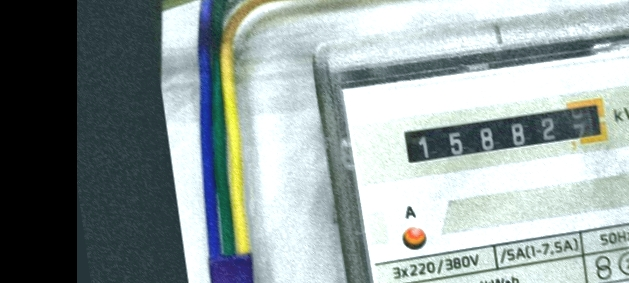1: (416, 135, 432, 163)
2: (539, 118, 558, 144)
5: (447, 132, 465, 159)
7: (571, 122, 588, 141)
8: (478, 127, 497, 154), (509, 123, 528, 150)
screen: (393, 94, 618, 181)
